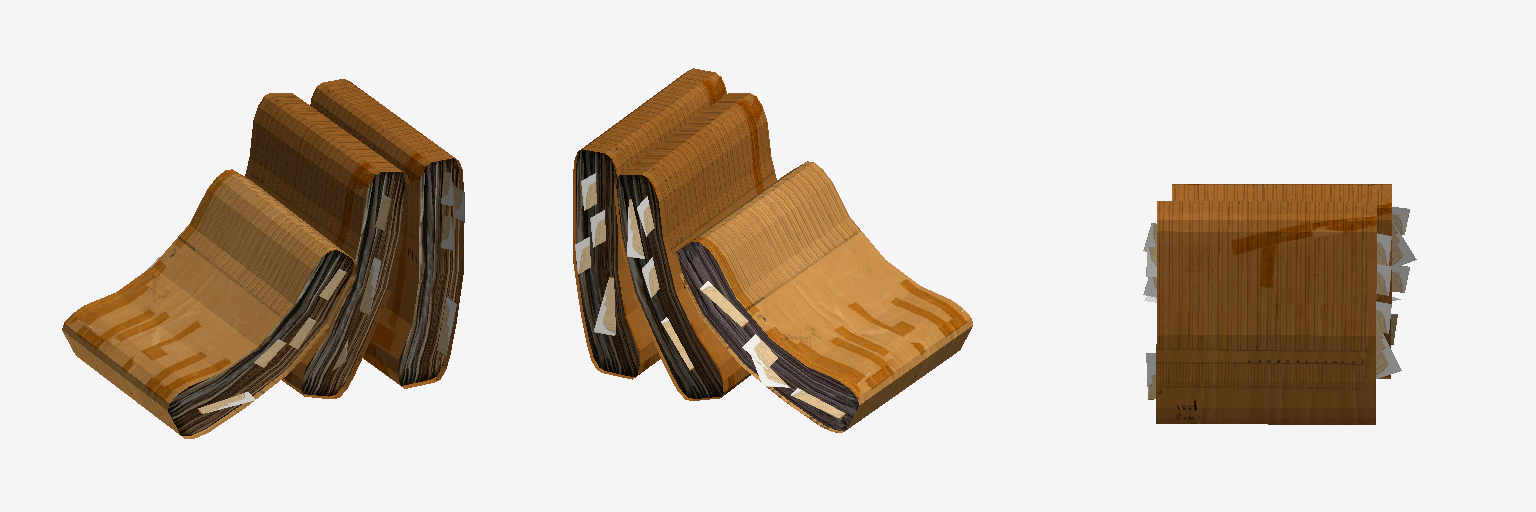
The picture shows the model from 3 angles: view 1: azimuth 30°, elevation 25°; view 2: azimuth 150°, elevation 25°; view 3: azimuth 270°, elevation 25°; orthographic projection.
Parts seen in each view (by area): view 1: decor_paperstack_side2; view 2: decor_paperstack_side2; view 3: decor_paperstack_side2.
Part boxes in pixels (left/top/right/bottom): decor_paperstack_side2: left=62, top=79, right=464, bottom=438; decor_paperstack_side2: left=573, top=68, right=972, bottom=432; decor_paperstack_side2: left=1143, top=184, right=1416, bottom=424.
Size of the model in its own units: 49.63 by 35.77 by 40.01.
1 materials, 1 textured.